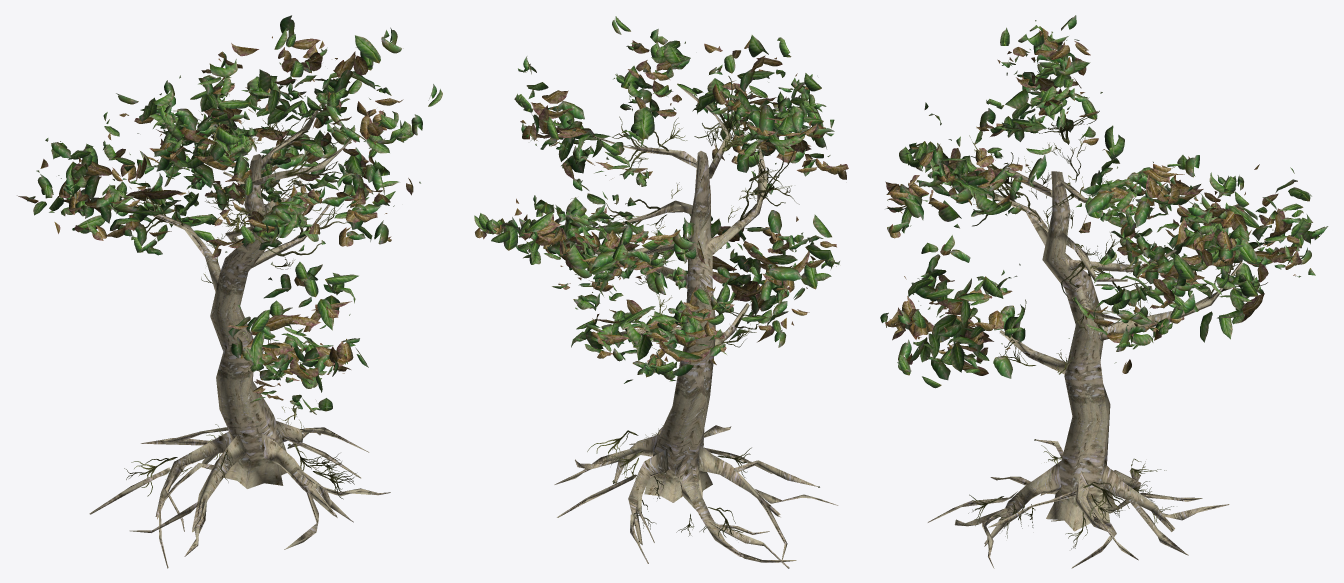
Rendered from kingsville_wood02_lod1.gltf.
The picture shows the model from 3 angles, left to right: view 1: azimuth 30°, elevation 25°; view 2: azimuth 150°, elevation 25°; view 3: azimuth 270°, elevation 25°; orthographic projection. The views are drawn at different scales.
Parts seen in each view (by area): view 1: Kingsville wood02; view 2: Kingsville wood02; view 3: Kingsville wood02.
Part boxes in pixels (bbox=[...]): Kingsville wood02: bbox=[17, 15, 442, 568]; Kingsville wood02: bbox=[474, 16, 848, 568]; Kingsville wood02: bbox=[880, 15, 1328, 568].
Size of the model in its own units: 3.01 by 4.35 by 3.43.
4 materials, 4 textured.
